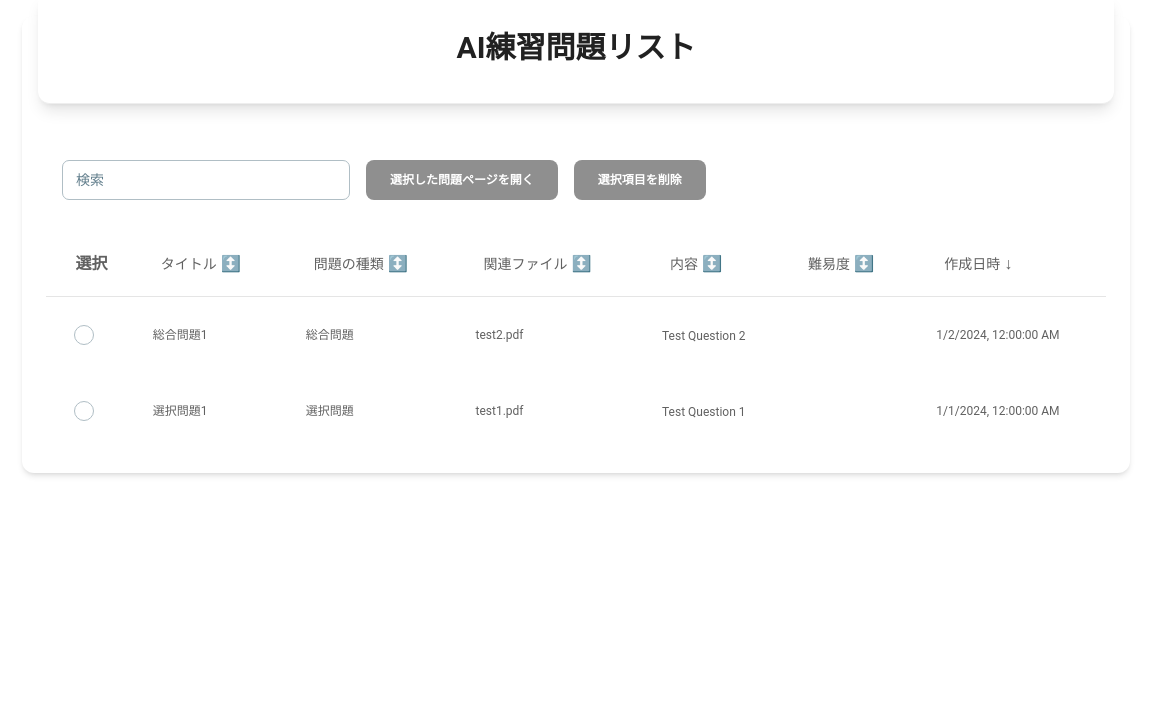
Scenario: ExerciseSelectComponent › モーダルが正しく表示されること
Expected: the text "選択問題1" is shown, [153,404,208,418]
Click the button "Test Question 1" at (715, 412), box [662,404,768,420]
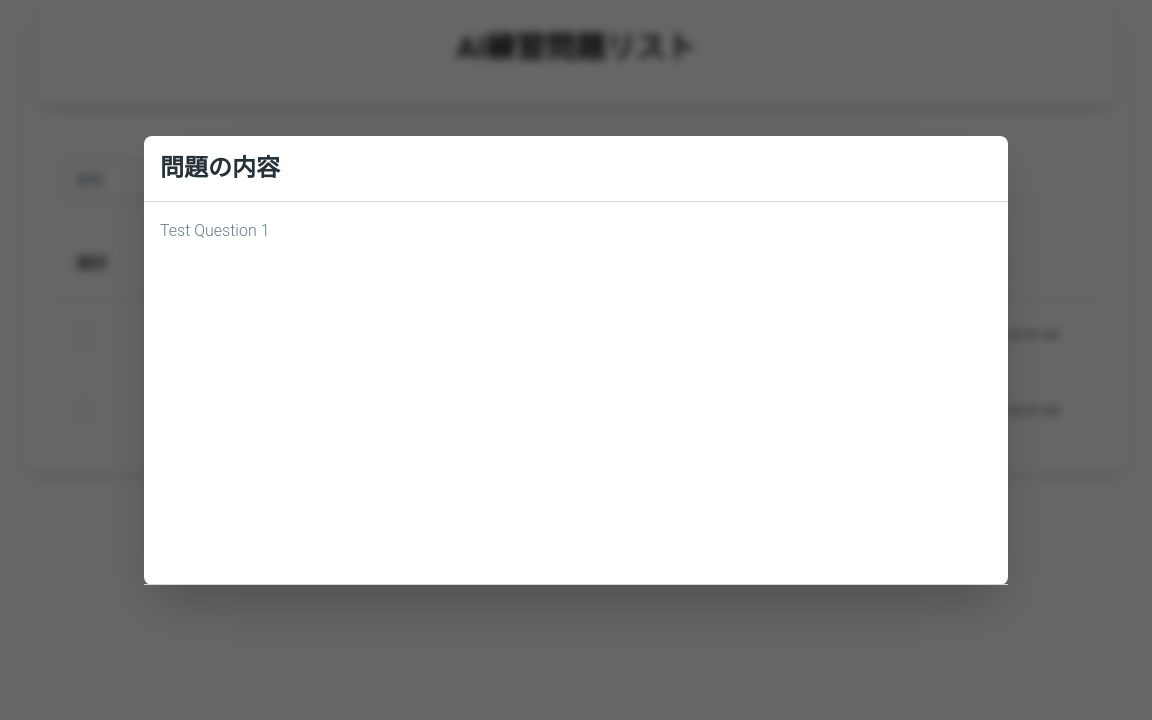
Expected: the text "問題の内容" is shown, [160,154,280,182]
Expected: the text "Test Question 1" is shown, [160,220,270,240]
